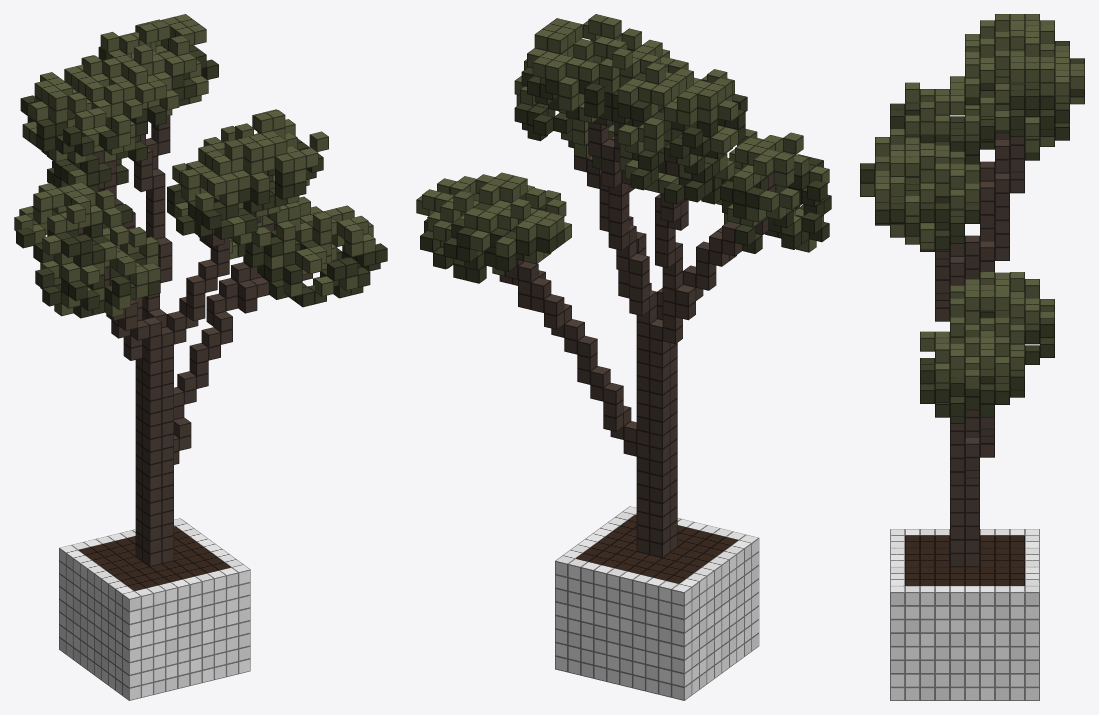
Rendered from stage_tree.glb.
3 views of the same model, side by side, from view 1: azimuth 30°, elevation 25°; view 2: azimuth 150°, elevation 25°; view 3: azimuth 270°, elevation 25° (orthographic). The views are drawn at different scales.
Visible parts, largest first — view 1: stage_tree; view 2: stage_tree; view 3: stage_tree.
Part boxes in pixels (bbox=[...]): stage_tree: bbox=[14, 14, 387, 700]; stage_tree: bbox=[416, 14, 831, 700]; stage_tree: bbox=[860, 14, 1084, 700].
Bounding box in the file's own units: 1.5 × 2.4 × 0.75.
Materials: 6 (6 with a texture image).
